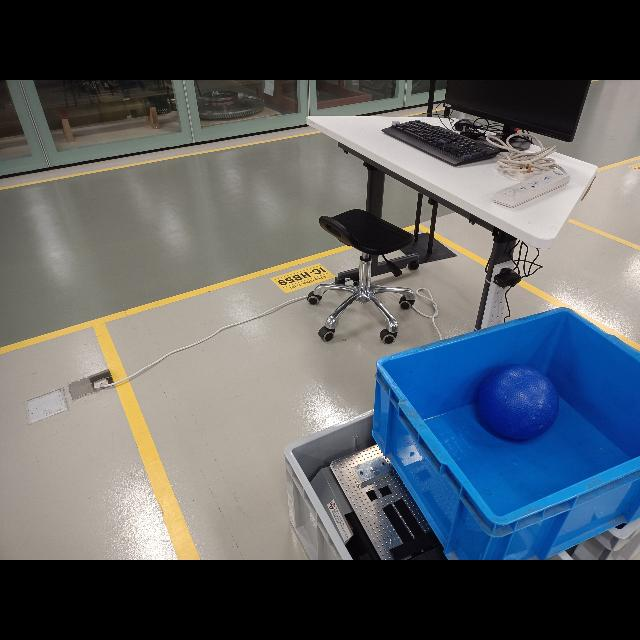B: (478, 367, 566, 445)
